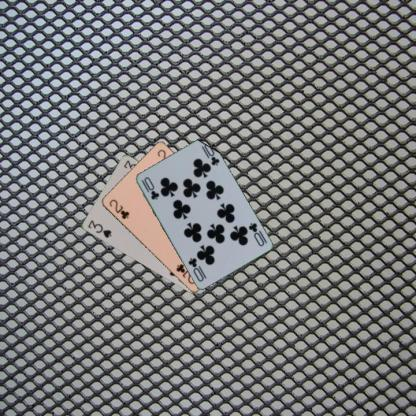10c: (246, 220, 268, 247), (139, 174, 160, 201)
2c: (106, 196, 131, 221)
3s: (85, 217, 113, 239)
